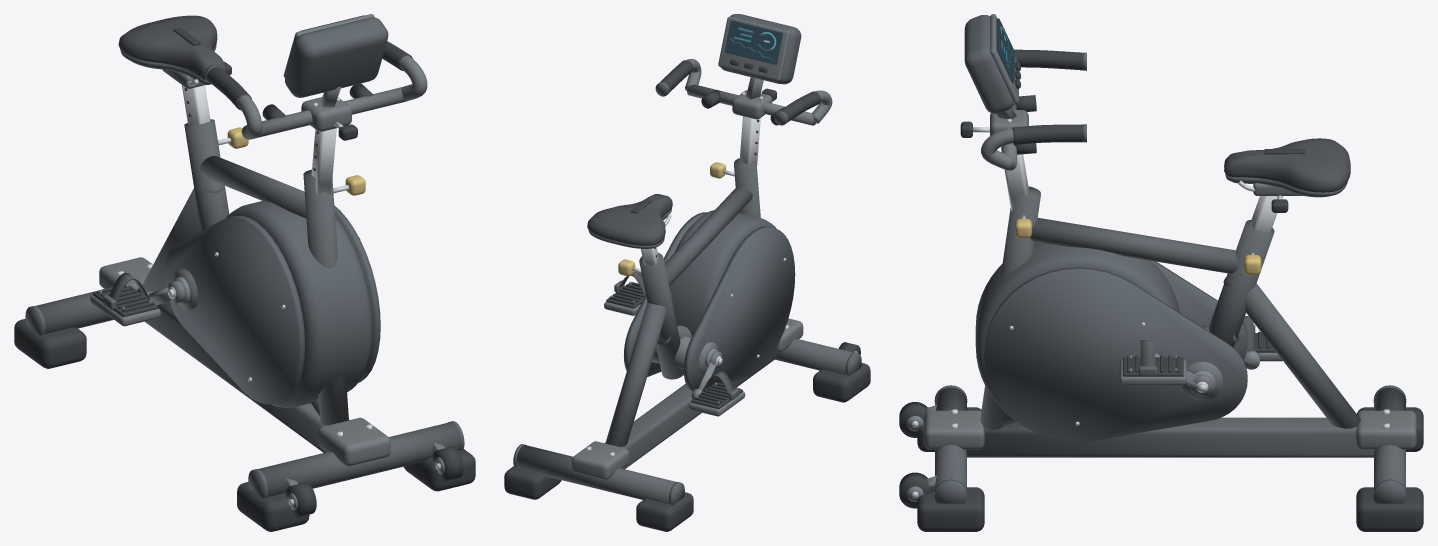
File: stationary_fitness_bike.glb
3 views of the same model, side by side, from view 1: azimuth 30°, elevation 25°; view 2: azimuth 150°, elevation 25°; view 3: azimuth 270°, elevation 25° (orthographic). The views are drawn at different scales.
Parts seen in each view (by area): view 1: FlywheelHousing_Plastic, MainFrame_Frame, Console_Plastic, FrontStabilizer_Frame, Saddle_Saddle, Handlebars_Arm, MainFrame_Arm, FrontStabilizer_Rubber, RearStabilizer_Rubber, RearStabilizer_Frame, Handlebars_Rubber, FrontTransportWheels_Rubber (+8 smaller); view 2: FlywheelHousing_Plastic, MainFrame_Frame, RearStabilizer_Frame, Saddle_Saddle, RearStabilizer_Rubber, MainFrame_Arm, Handlebars_Arm, Console_Screen, FrontStabilizer_Frame, Console_Arm, FrontStabilizer_Rubber, Handlebars_Rubber (+8 smaller); view 3: FlywheelHousing_Plastic, MainFrame_Frame, Saddle_Saddle, MainFrame_Arm, Handlebars_Rubber, RearStabilizer_Rubber, Console_Plastic, FrontStabilizer_Rubber, RearStabilizer_Frame, FrontStabilizer_Frame, Handlebars_Arm, FrontTransportWheels_Rubber (+11 smaller).
Boxes of the visible parts, x1,y1,x2,y2 form: FlywheelHousing_Plastic: (164, 201, 380, 407); MainFrame_Frame: (137, 119, 349, 452); Console_Plastic: (285, 17, 388, 97); FrontStabilizer_Frame: (258, 422, 460, 496); Saddle_Saddle: (118, 15, 226, 80); Handlebars_Arm: (237, 55, 427, 139); MainFrame_Arm: (99, 257, 390, 466); FrontStabilizer_Rubber: (237, 449, 475, 531); RearStabilizer_Rubber: (14, 318, 86, 368); RearStabilizer_Frame: (36, 291, 113, 333); Handlebars_Rubber: (207, 41, 412, 119); FrontTransportWheels_Rubber: (285, 446, 463, 517); FlywheelHousing_Plastic: (623, 210, 795, 391); MainFrame_Frame: (604, 158, 780, 469); RearStabilizer_Frame: (516, 445, 676, 504); Saddle_Saddle: (587, 194, 672, 245); RearStabilizer_Rubber: (504, 466, 693, 531); MainFrame_Arm: (571, 318, 803, 479); Handlebars_Arm: (685, 59, 832, 125); Console_Screen: (724, 20, 782, 64); FrontStabilizer_Frame: (775, 338, 853, 374); Console_Arm: (718, 16, 790, 80); FrontStabilizer_Rubber: (813, 363, 870, 402); Handlebars_Rubber: (660, 60, 820, 125); FlywheelHousing_Plastic: (975, 241, 1247, 441); MainFrame_Frame: (966, 186, 1374, 457); Saddle_Saddle: (1224, 138, 1350, 192); MainFrame_Arm: (924, 410, 1416, 449); Handlebars_Rubber: (1012, 49, 1082, 154); RearStabilizer_Rubber: (1356, 407, 1423, 531); Console_Plastic: (964, 15, 1014, 113); FrontStabilizer_Rubber: (917, 407, 984, 531); RearStabilizer_Frame: (1374, 387, 1405, 490); FrontStabilizer_Frame: (935, 387, 966, 490); Handlebars_Arm: (981, 103, 1016, 170); FrontTransportWheels_Rubber: (899, 402, 931, 508).
Size of the model in its own units: 0.679 by 1.41 by 1.48.
10 materials, 1 textured.
